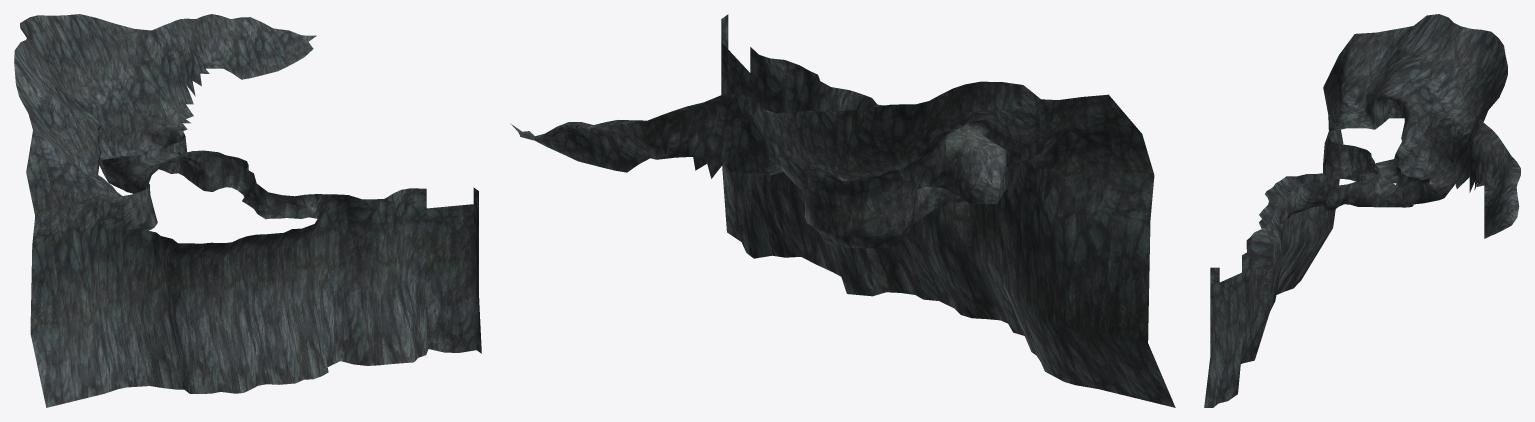
The model's file is terrain_cliffs.fbx.
The picture shows the model from 3 angles, left to right: view 1: azimuth 30°, elevation 25°; view 2: azimuth 150°, elevation 25°; view 3: azimuth 270°, elevation 25°; orthographic projection. The views are drawn at different scales.
Visible parts, largest first — view 1: Material_#238683241/cliffside; view 2: Material_#238683241/cliffside; view 3: Material_#238683241/cliffside.
Part boxes in pixels (left/top/right/bottom): Material_#238683241/cliffside: left=14, top=14, right=481, bottom=407; Material_#238683241/cliffside: left=510, top=14, right=1175, bottom=407; Material_#238683241/cliffside: left=1204, top=14, right=1520, bottom=407.
Size of the model in its own units: 106 by 77.22 by 86.72.
